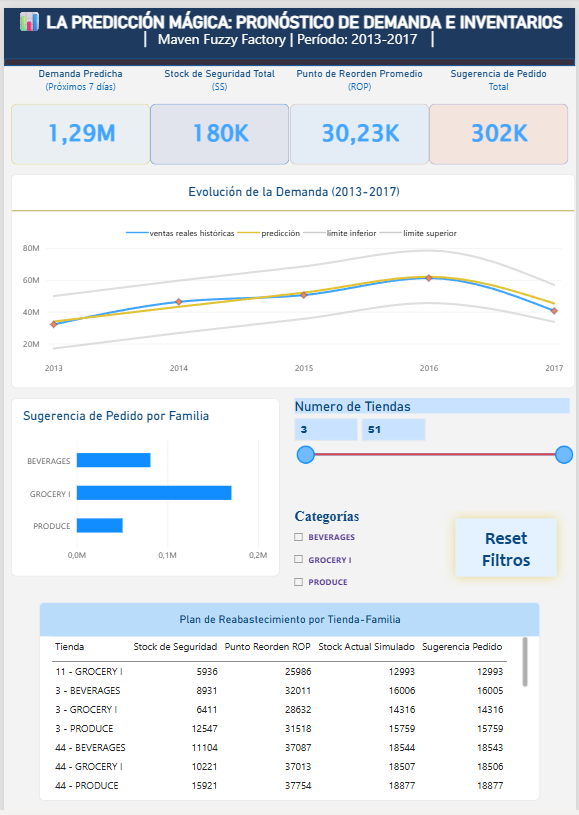

Layout of this report page (visuals, bound fields, positions):
{"tool":"powerbi","page":{"name":"Page 1","canvas":[816,1200],"ordinal":0},"visuals":[{"type":"shape","title":"📊 LA PREDICCIÓN MÁGICA: PRONÓSTICO DE DEMANDA E INVENTARIOS","box":[0,0,815.7,82.9],"z":0},{"type":"cardVisual","title":"Demanda Predicha ","fields":{"Data":["forecast_diario_powerbi.Demanda Predicha 7d"]},"box":[10.1,85.3,199,138],"z":1000},{"type":"cardVisual","title":"Stock de Seguridad Total","fields":{"Data":["forecast_diario_powerbi.Stock de Seguridad Total"]},"box":[209.2,85.4,199,138],"z":2000},{"type":"cardVisual","title":"Punto de Reorden Promedio","fields":{"Data":["forecast_diario_powerbi.ROP Promedio"]},"box":[408.5,85.4,199,138],"z":3000},{"type":"cardVisual","title":"Sugerencia de Pedido","fields":{"Data":["forecast_diario_powerbi.Sugerencia de Pedido Total"]},"box":[607.7,85.4,199,138],"z":4000},{"type":"lineChart","title":"Evolución de la Demanda (2013-2017)","fields":{"Category":["forecast_diario_powerbi.ds.Variation.Date Hierarchy.Year","forecast_diario_powerbi.ds.Variation.Date Hierarchy.Quarter","forecast_diario_powerbi.ds.Variation.Date Hierarchy.Month","forecast_diario_powerbi.ds.Variation.Date Hierarchy.Day"],"Y":["Sum(forecast_diario_powerbi.y)","Sum(forecast_diario_powerbi.yhat)","Sum(forecast_diario_powerbi.yhat_lower)","Sum(forecast_diario_powerbi.yhat_upper)"]},"box":[10,237.1,806,306],"z":5000},{"type":"slicer","fields":{"Values":["metricas_inventario_powerbi.store_nbr"]},"box":[407.1,557.1,408.6,142.9],"z":6000},{"type":"slicer","fields":{"Values":["forecast_diario_powerbi.family"]},"box":[407.1,714.3,222.9,148.6],"z":7000},{"type":"actionButton","box":[630,714.3,174.3,112.9],"z":8000},{"type":"clusteredBarChart","title":"Sugerencia de Pedido por Familia","fields":{"Category":["metricas_inventario_powerbi.family"],"Y":["forecast_diario_powerbi.Total Sugerencia Pedido"]},"box":[10,557.1,384,255],"z":9000},{"type":"tableEx","title":"Plan de Reabastecimiento por Tienda-Familia","fields":{"Values":["metricas_inventario_powerbi.ID_Tienda_Familia","metricas_inventario_powerbi.Stock_Seguridad_SS","metricas_inventario_powerbi.Punto_Reorden_ROP","metricas_inventario_powerbi.Stock_Actual_Simulado","metricas_inventario_powerbi.Sugerencia_Pedido"]},"box":[50,848.6,711.4,277.1],"z":10000}]}

Visuals, with their boxes on the page's 816x1200 design canvas (x1, y1, x2, y2). These are canvas units, not pixel positions in the 579x815 screenshot, which may show the page scaled, cropped or inside an application window:
"📊 LA PREDICCIÓN MÁGICA: PRONÓSTICO DE DEMANDA E INVENTARIOS" shape: 0 0 816 83
"Demanda Predicha " cardVisual: 10 85 209 223
"Stock de Seguridad Total" cardVisual: 209 85 408 223
"Punto de Reorden Promedio" cardVisual: 408 85 608 223
"Sugerencia de Pedido" cardVisual: 608 85 807 223
"Evolución de la Demanda (2013-2017)" lineChart: 10 237 816 543
slicer - metricas_inventario_powerbi.store_nbr: 407 557 816 700
slicer - forecast_diario_powerbi.family: 407 714 630 863
actionButton: 630 714 804 827
"Sugerencia de Pedido por Familia" clusteredBarChart: 10 557 394 812
"Plan de Reabastecimiento por Tienda-Familia" tableEx: 50 849 761 1126
